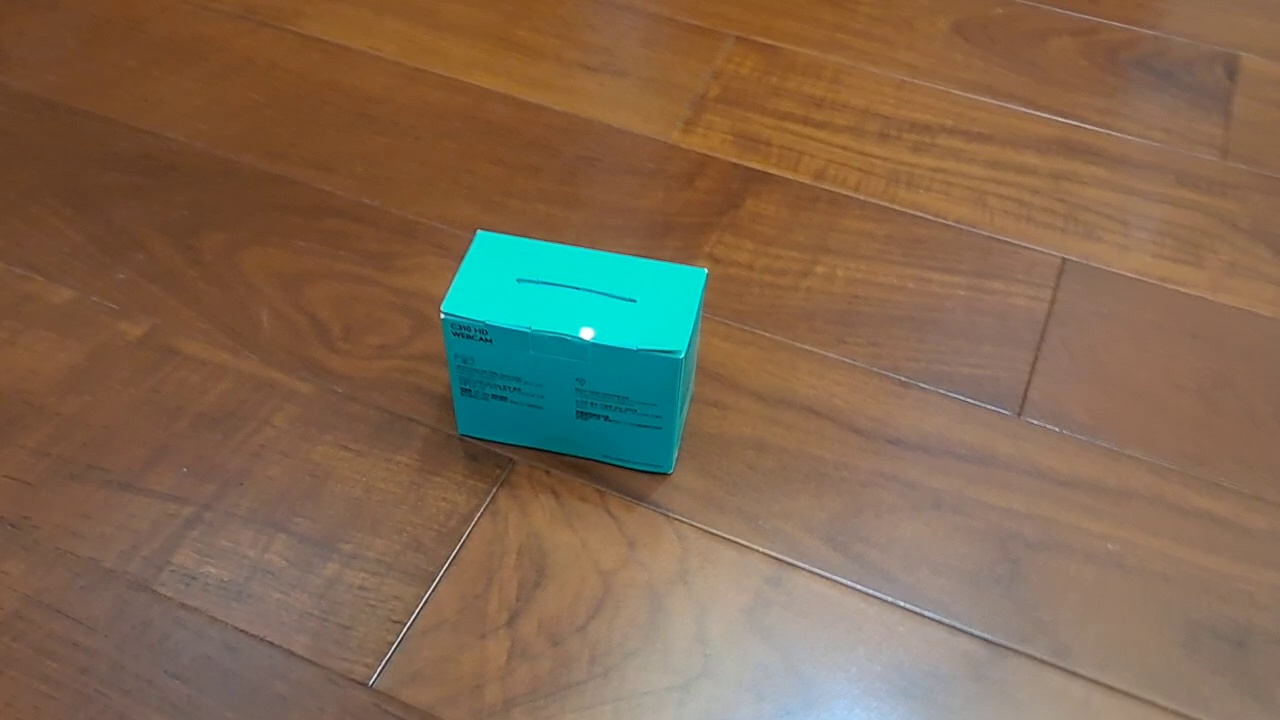webcam: (438, 226, 710, 478)
